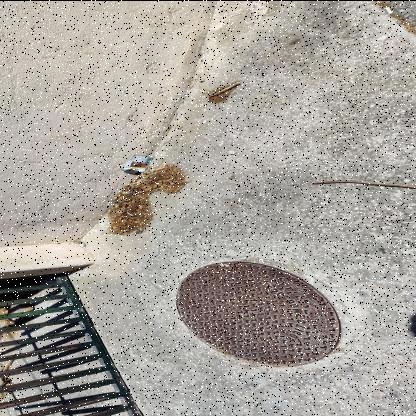cardboard: (121, 152, 152, 174)
